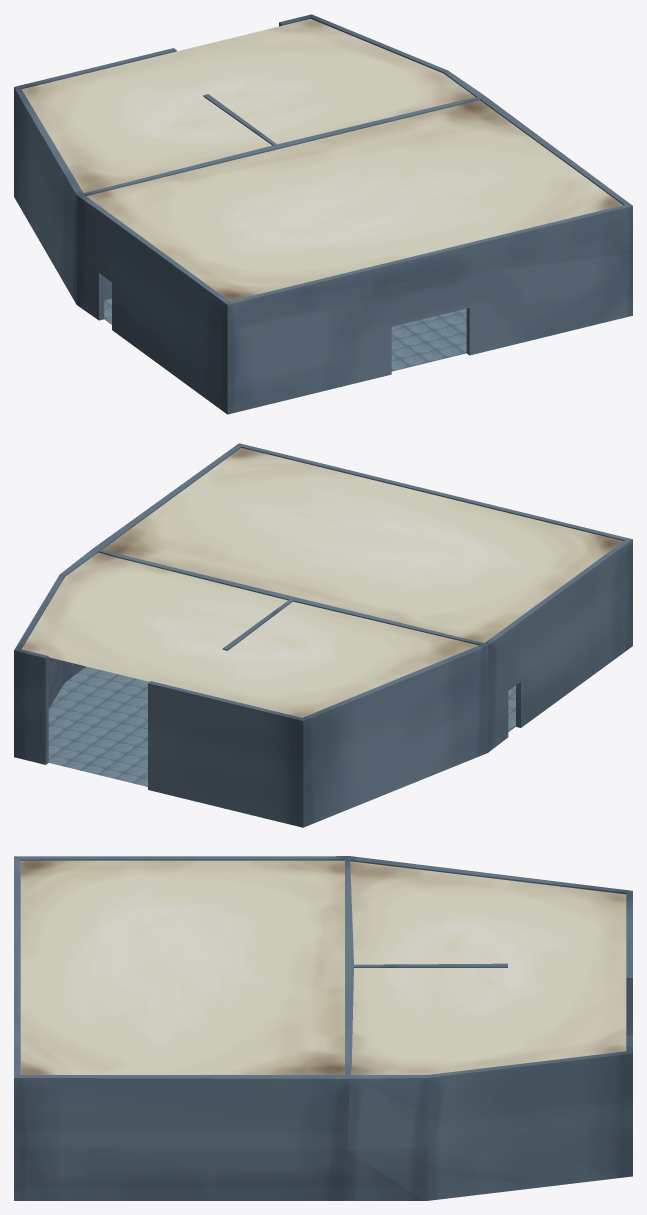
File: store.gltf
The picture shows the model from 3 angles, top to bottom: view 1: azimuth 30°, elevation 25°; view 2: azimuth 150°, elevation 25°; view 3: azimuth 270°, elevation 25°; orthographic projection. The views are drawn at different scales.
Visible parts, largest first — view 1: Roof, Walls, Floor; view 2: Roof, Walls, Floor; view 3: Roof, Walls.
Boxes of the visible parts, bbox=[...] form: Roof: bbox=[22, 19, 622, 300]; Walls: bbox=[14, 14, 632, 414]; Floor: bbox=[104, 298, 466, 371]; Roof: bbox=[21, 448, 623, 717]; Walls: bbox=[14, 443, 632, 827]; Floor: bbox=[48, 666, 515, 786]; Roof: bbox=[20, 860, 626, 1074]; Walls: bbox=[14, 856, 632, 1200].
Size of the model in its own units: 18.01 by 4.62 by 21.08.
Materials: 3 (3 with a texture image).
